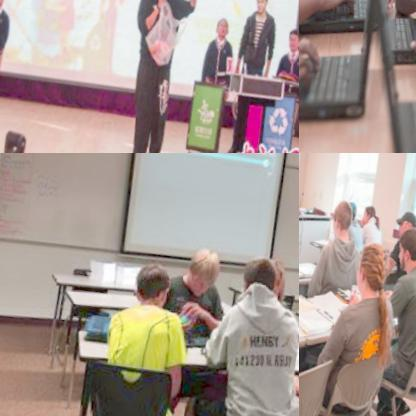head: (346, 244, 394, 310), (123, 256, 174, 317), (176, 243, 221, 306), (232, 253, 279, 305), (252, 254, 289, 306), (324, 201, 356, 245), (388, 229, 416, 279), (390, 212, 416, 247), (353, 203, 380, 233), (336, 199, 361, 229), (280, 31, 299, 60), (208, 18, 227, 42), (247, 0, 265, 17)
